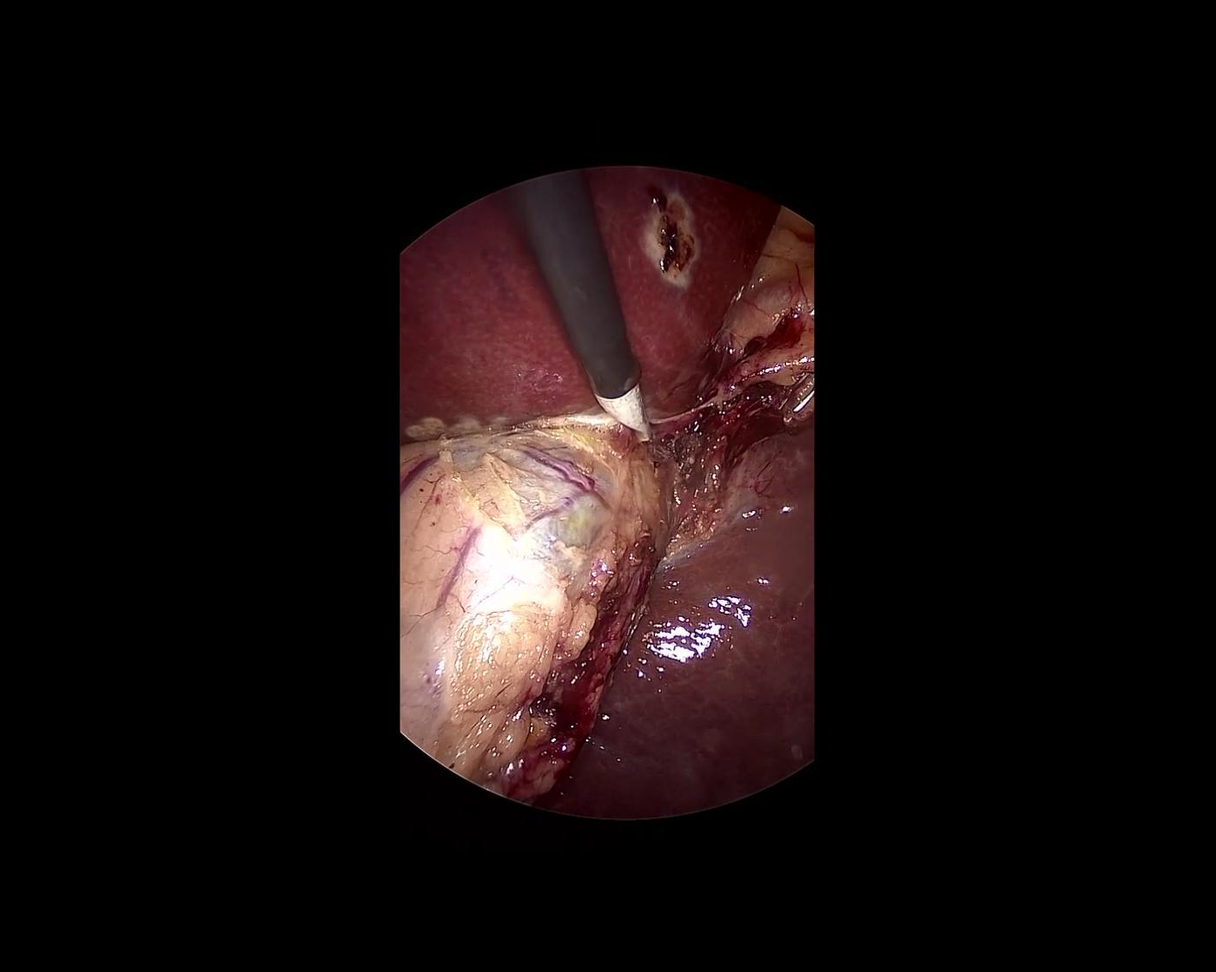Gallbladder: (383, 410, 677, 811)
Liver: (533, 384, 942, 904), (375, 154, 794, 444)
